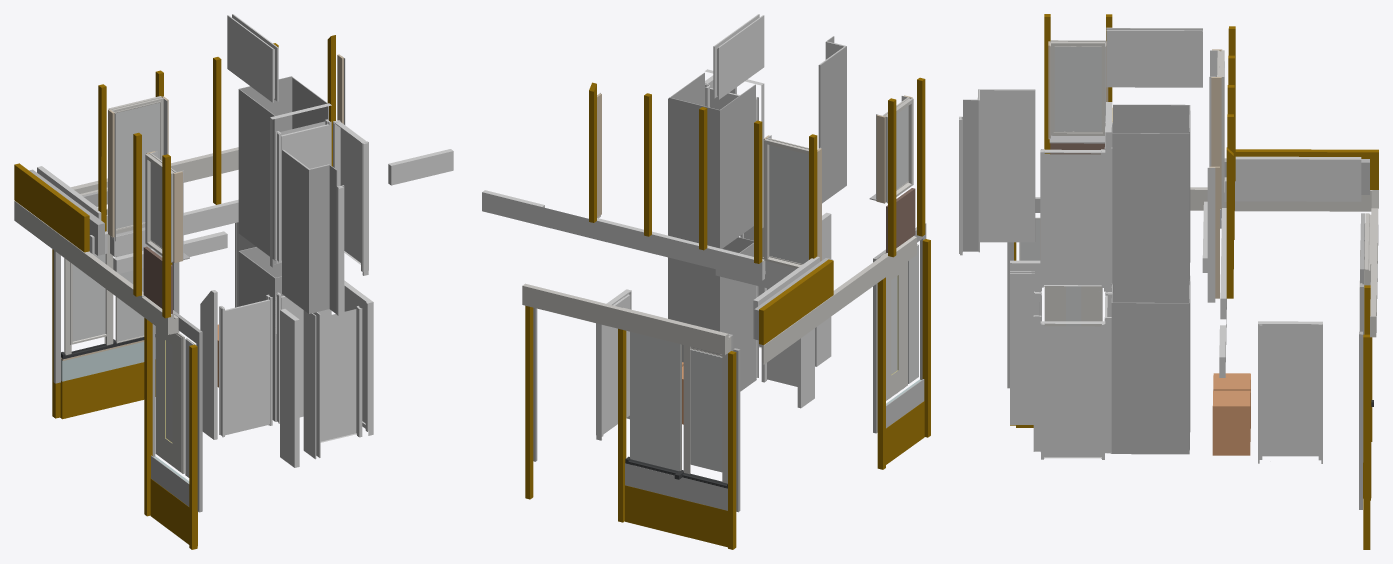
3 renders of one model, left to right at view 1: azimuth 30°, elevation 25°; view 2: azimuth 150°, elevation 25°; view 3: azimuth 270°, elevation 25°, orthographic. The views are drawn at different scales.
Bounding box in the file's own units: 7.24 × 8.14 × 6.72.
